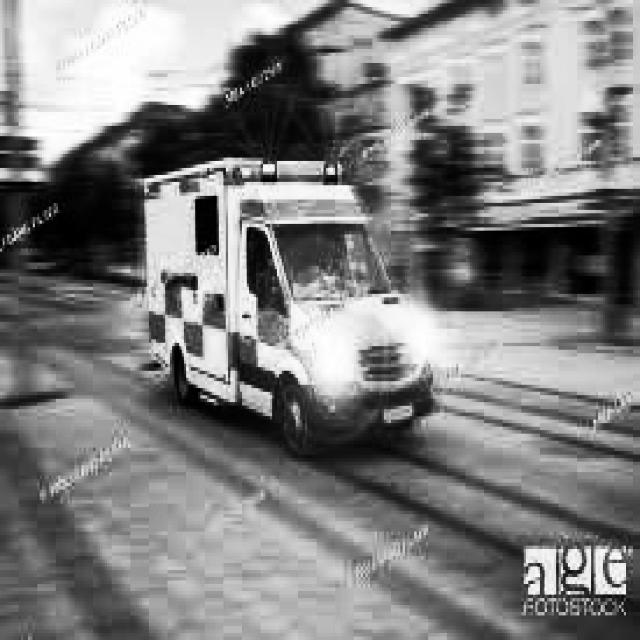Ambulance: (159, 201, 283, 408), (219, 156, 349, 198)
